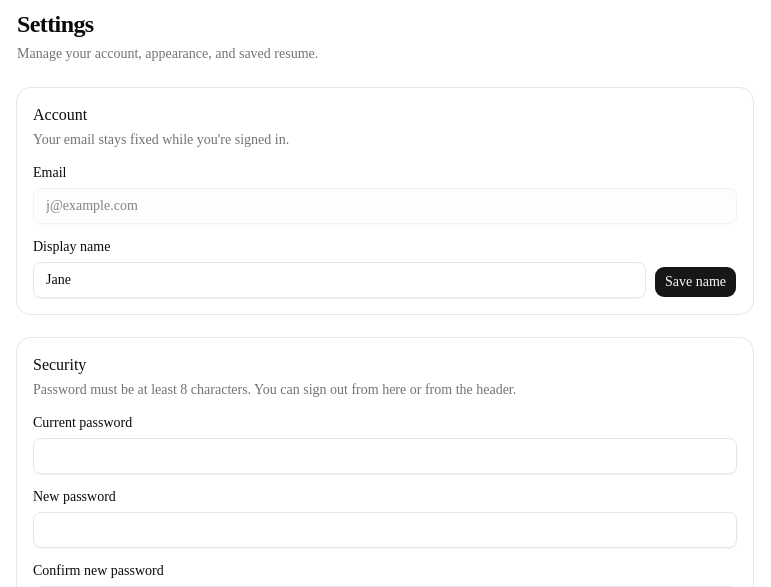
SettingsPage › loads profile and submits name change
Step 1. Replace the text in the field with id "settings-name" with "Janet" → (340, 280), box [33,262,646,298]
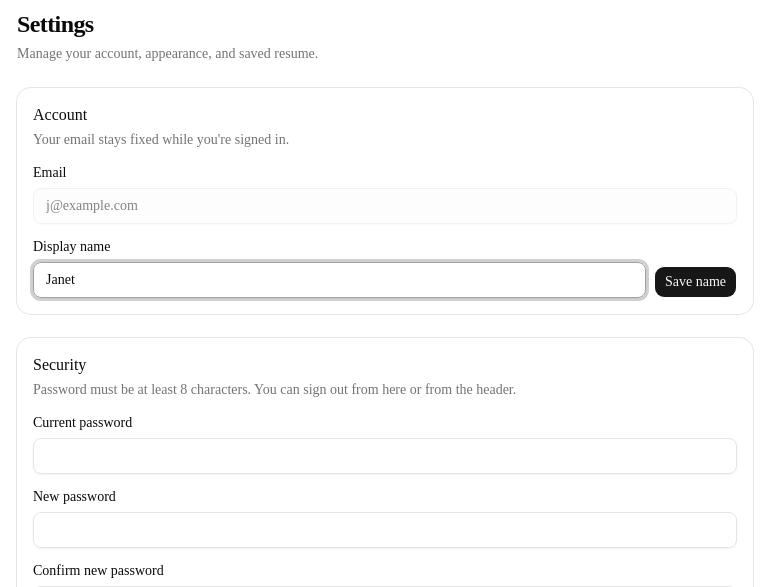
Step 2. Click the button "Save name" → (696, 282), box [654,266,737,298]
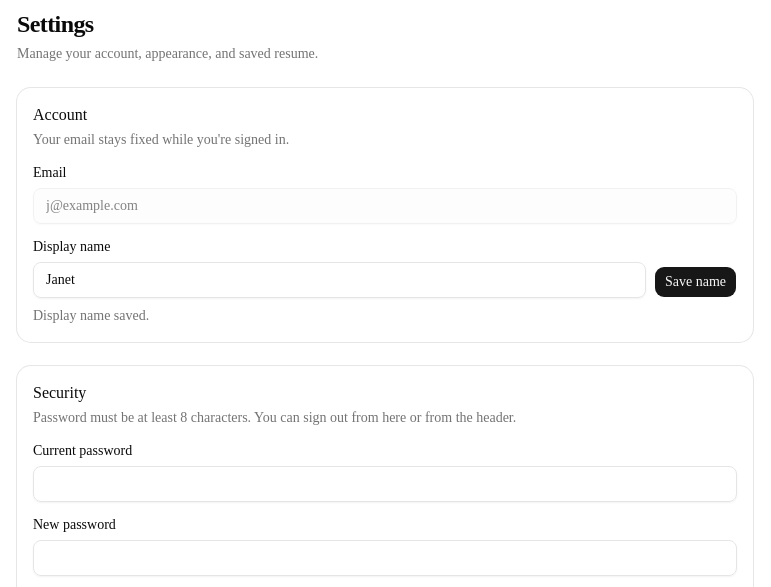
Result: the text "Display name saved." is shown at [33,308,149,323]
